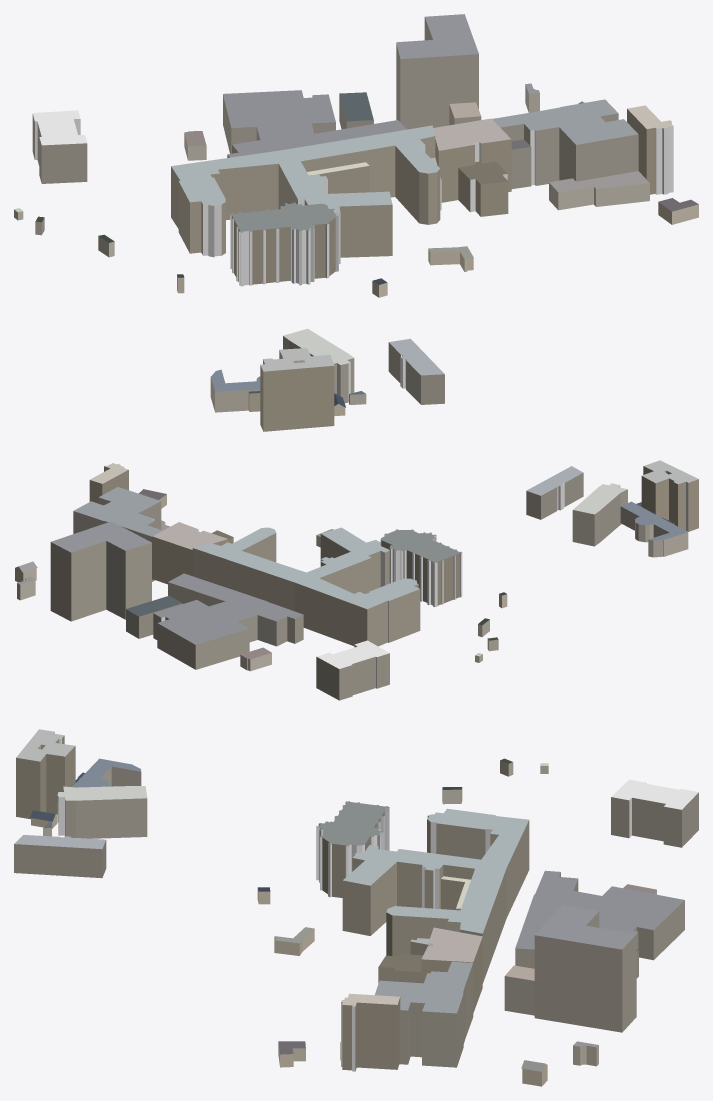
3 views of the same model, one above another, from view 1: azimuth 30°, elevation 25°; view 2: azimuth 150°, elevation 25°; view 3: azimuth 270°, elevation 25° (orthographic). The views are drawn at different scales.
Parts seen in each view (by area): view 1: tuile; view 2: tuile; view 3: tuile.
Part boxes in pixels (x1,y1,x2,y2): tuile: (14,14,698,431); tuile: (15,460,698,700); tuile: (14,729,698,1086).
Size of the model in its own units: 267 by 41.68 by 268.
